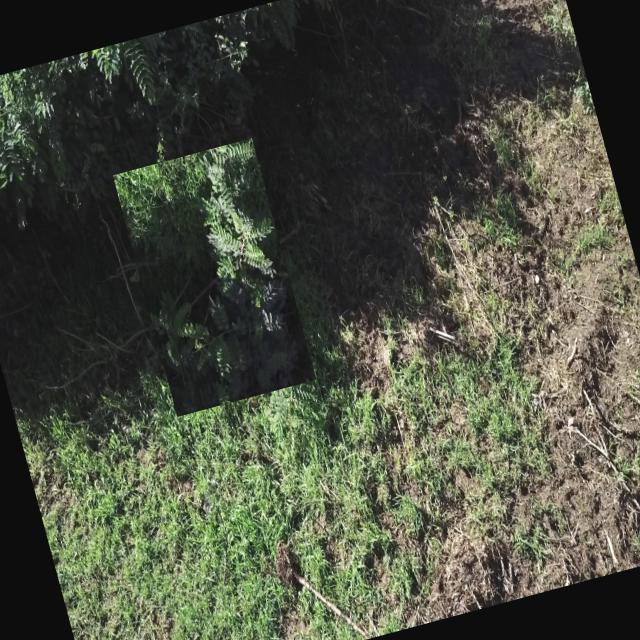Mysore-Thorn-Weed: (112, 138, 316, 416), (0, 23, 220, 197)
